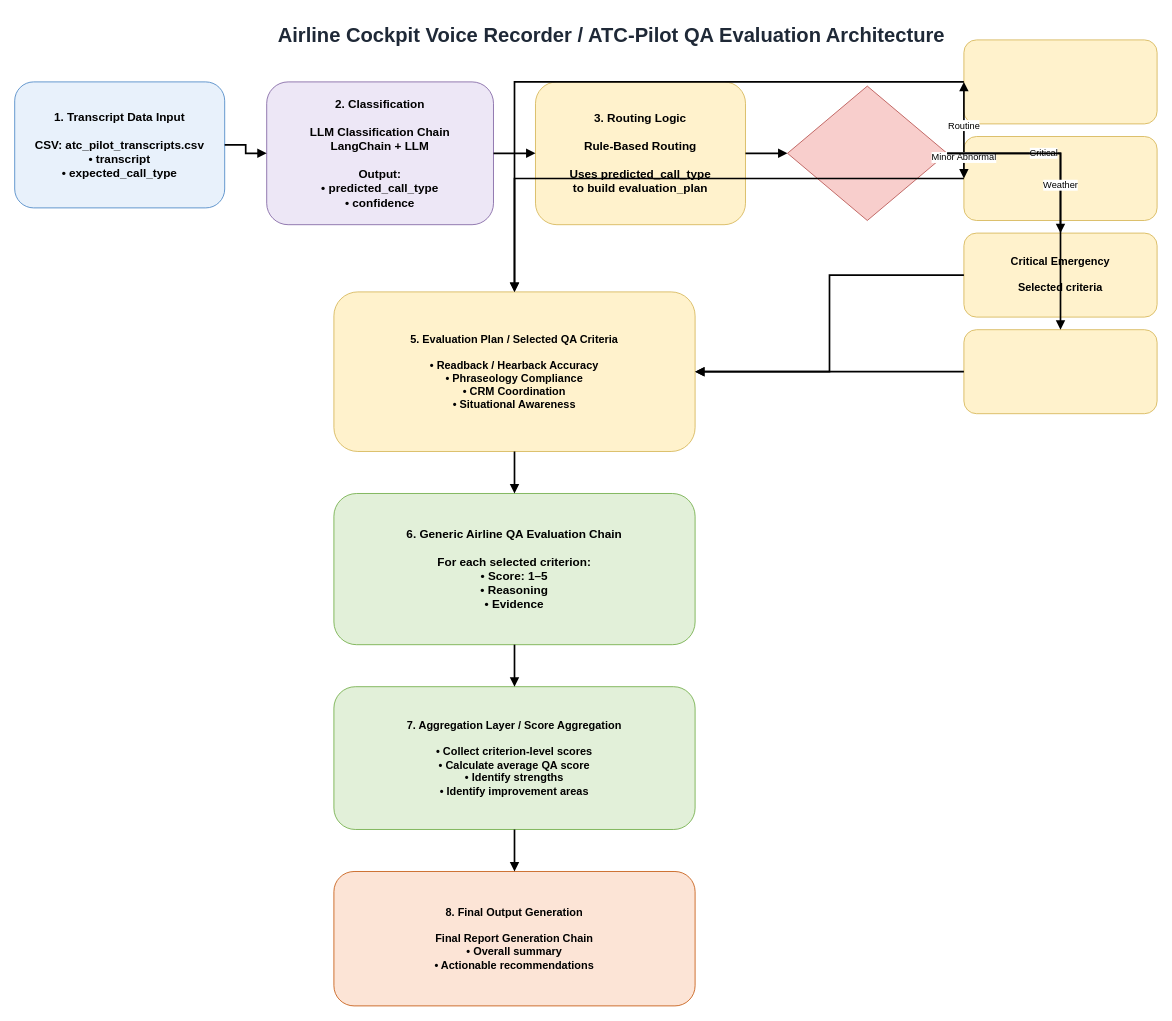
This 1172x1021 diagram has some shape labels left out. The shapes that lost their labels are listed below. From the top down, each one's box as (x1, y1, x2, y2) in pixels, then its label:
(963, 39, 1157, 124): Routine Operations Selected criteria
(787, 85, 947, 220): 4. Decision Branch Which call type?
(963, 136, 1157, 220): Minor Abnormal Event Selected criteria
(963, 329, 1157, 414): Weather Deviation Selected criteria
